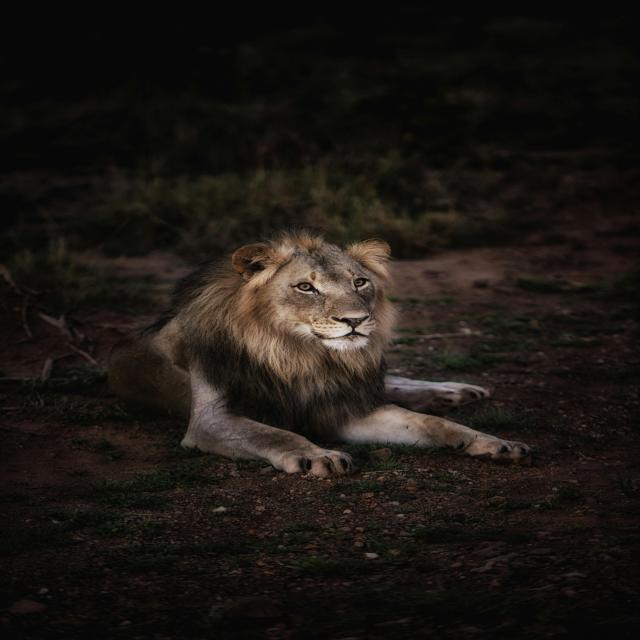Lion: (111, 231, 532, 478)
